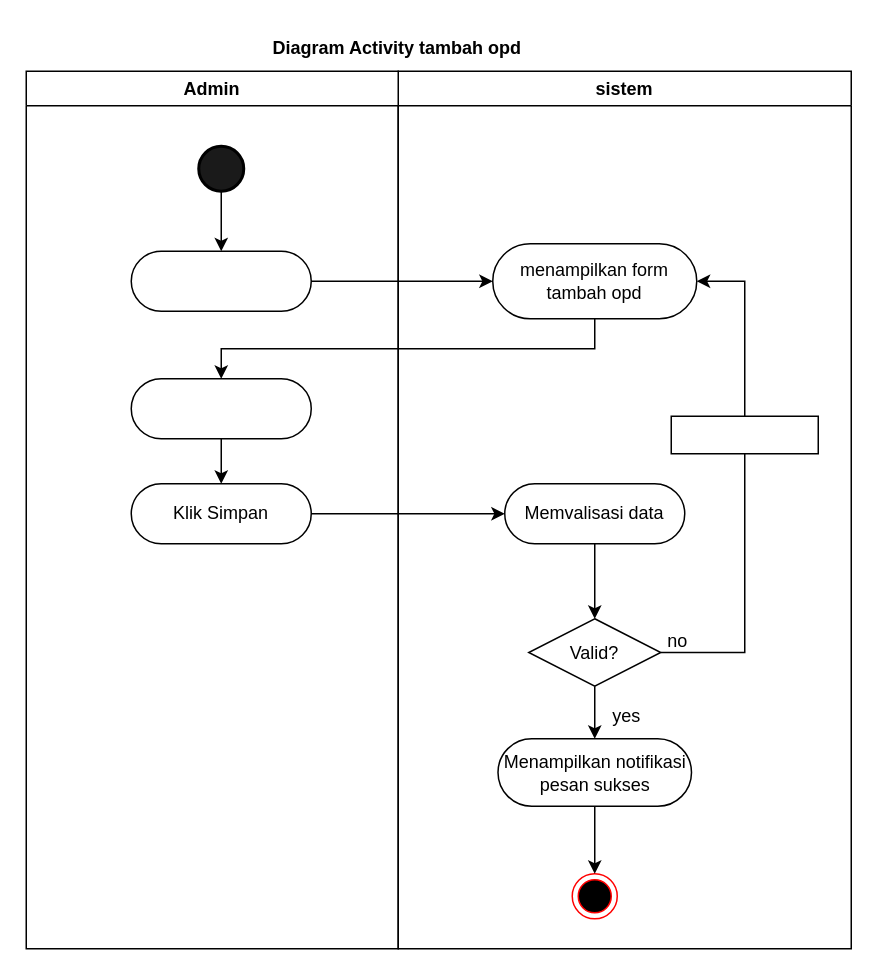
This 878x975 diagram has some shape labels left out. Each missing label, with the centre of its shape:
mengisi form tambah opd: point (220, 408)
Mengklik Tombol tambah opd: point (220, 280)
Pesan Kesalahan: point (744, 434)
